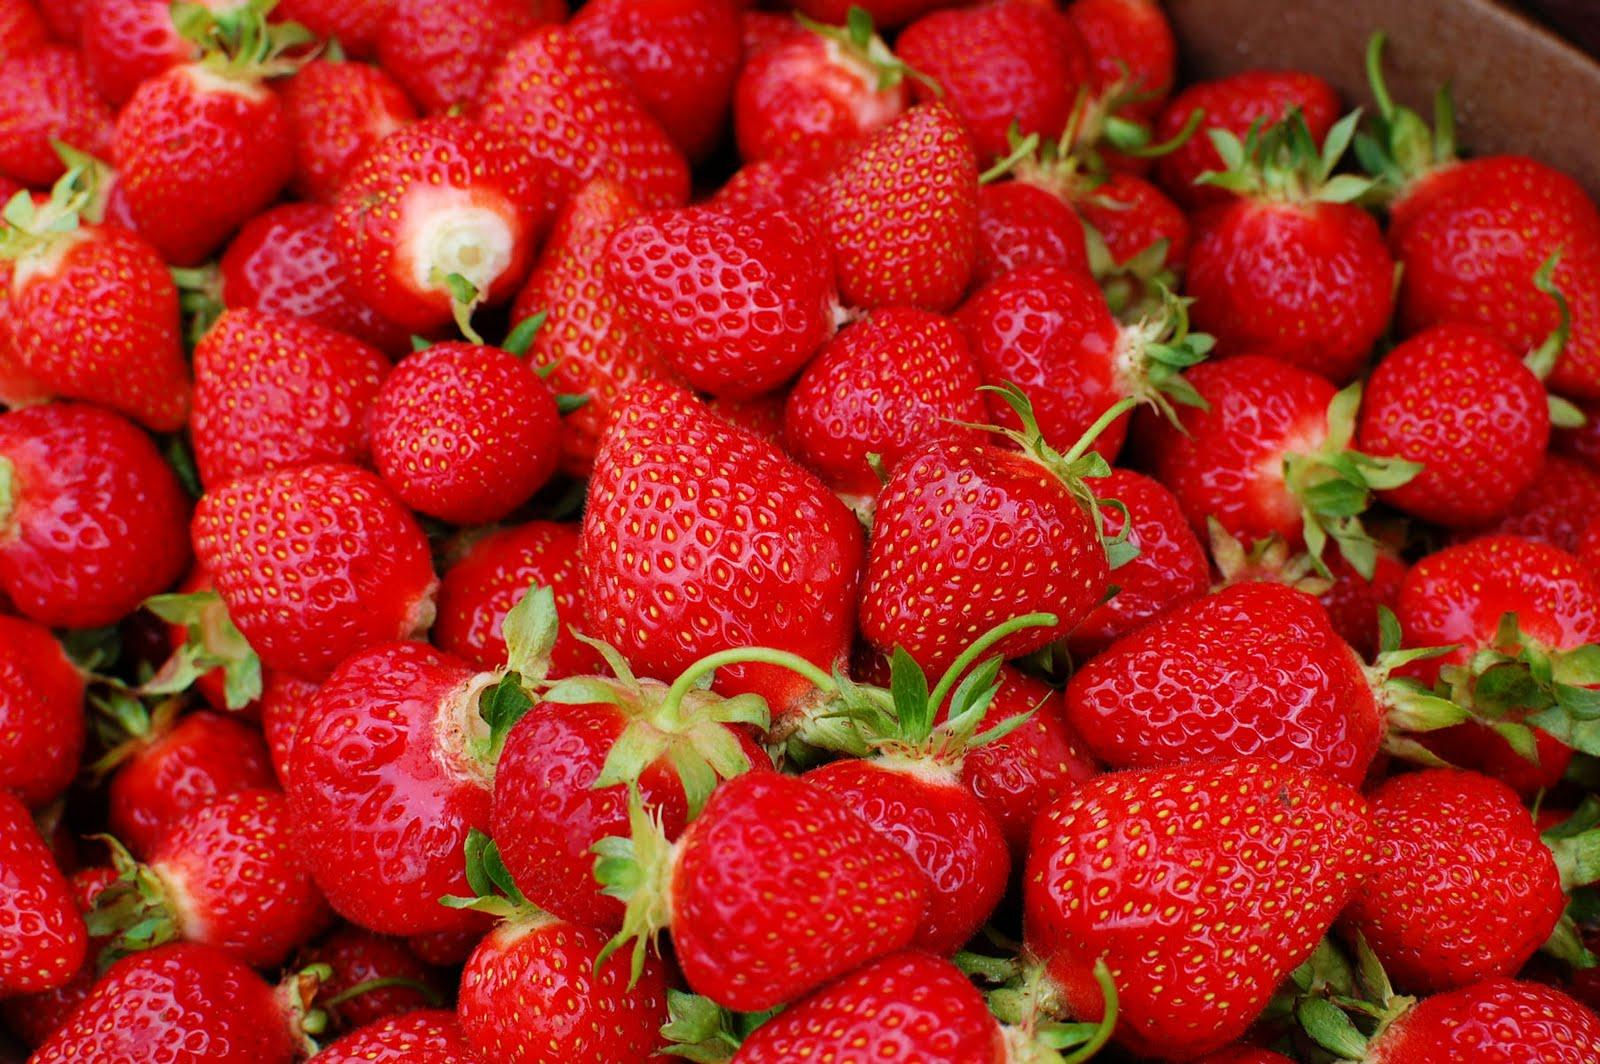strawberry: (547, 365, 893, 715), (1020, 767, 1378, 1064), (861, 407, 1119, 711), (656, 761, 939, 1032), (1067, 581, 1421, 792), (284, 627, 531, 927), (173, 464, 413, 661), (586, 194, 832, 379), (1347, 304, 1554, 522), (334, 121, 539, 315), (813, 94, 976, 304)
